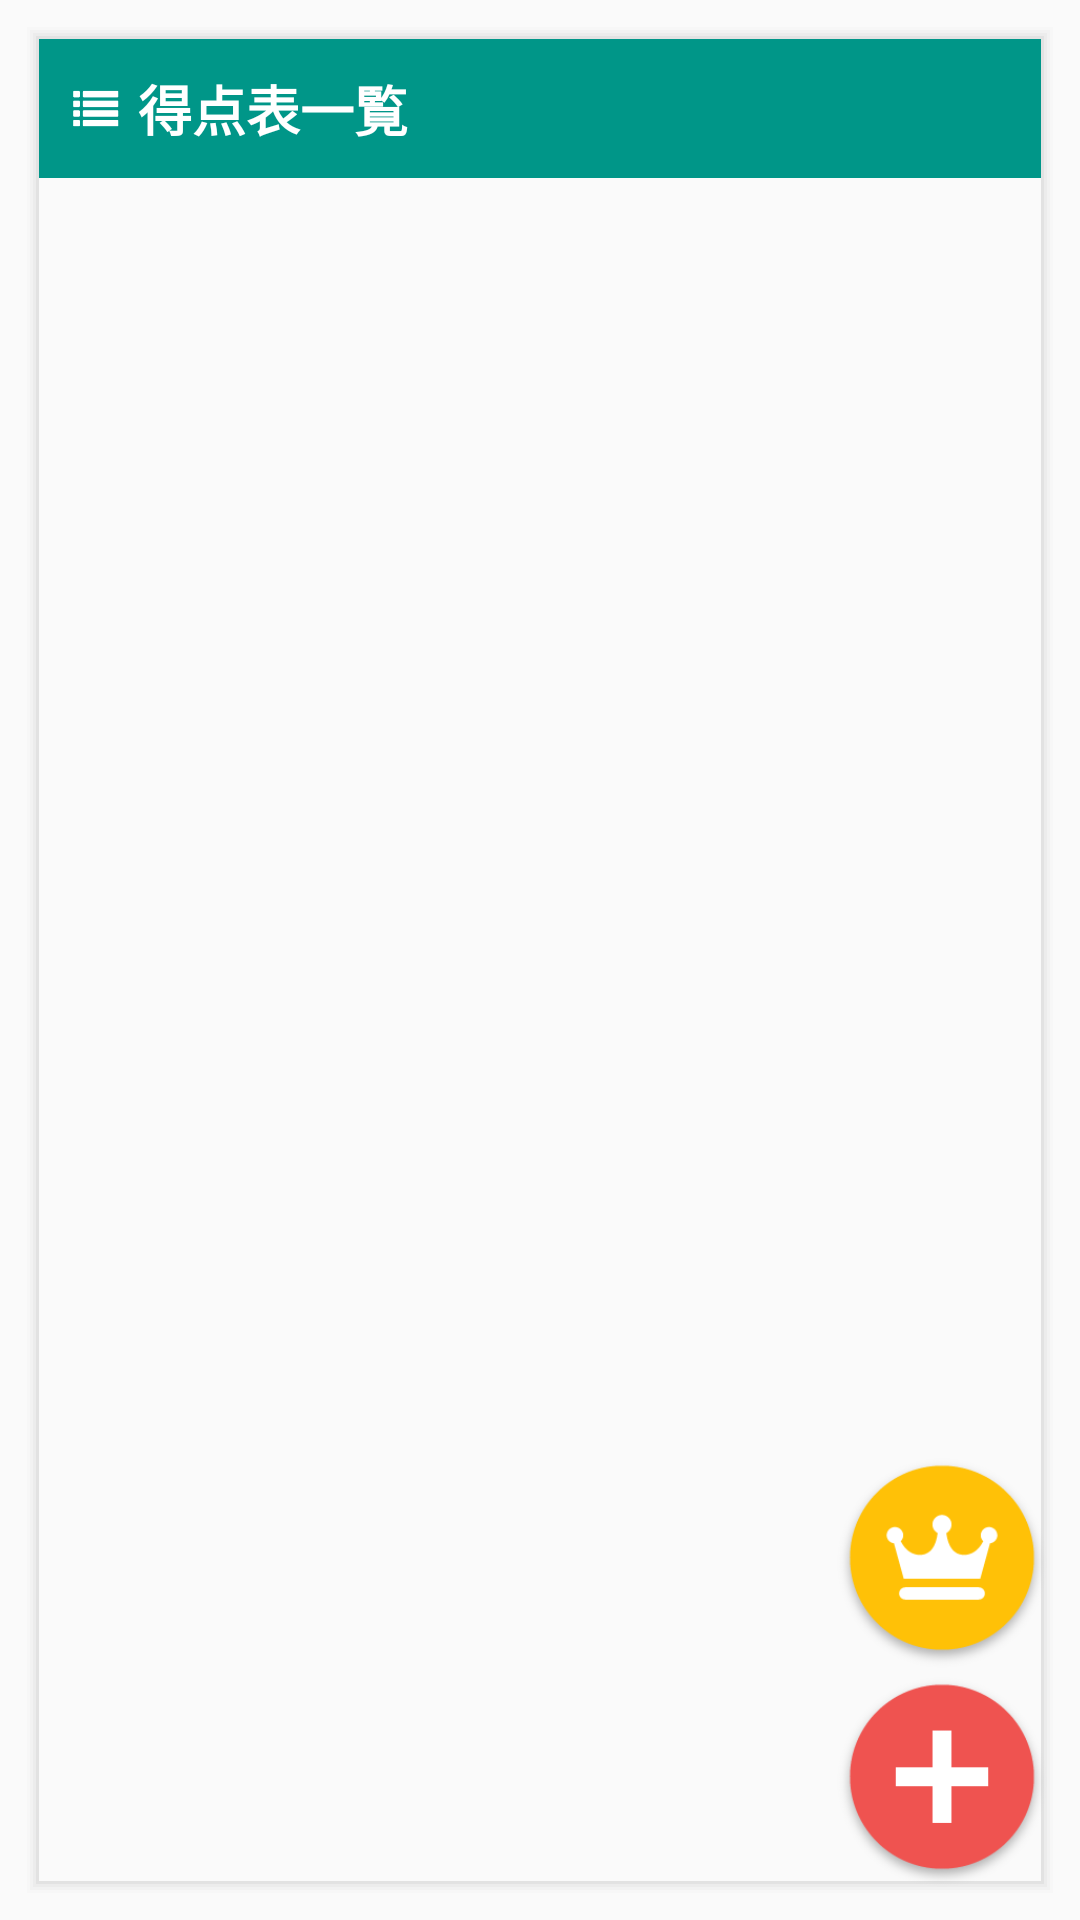

Named icons in this screenshot (1080*1920) and their bounding boxes, [x1,y1,x2,y2]:
list: [73,91,119,127]
